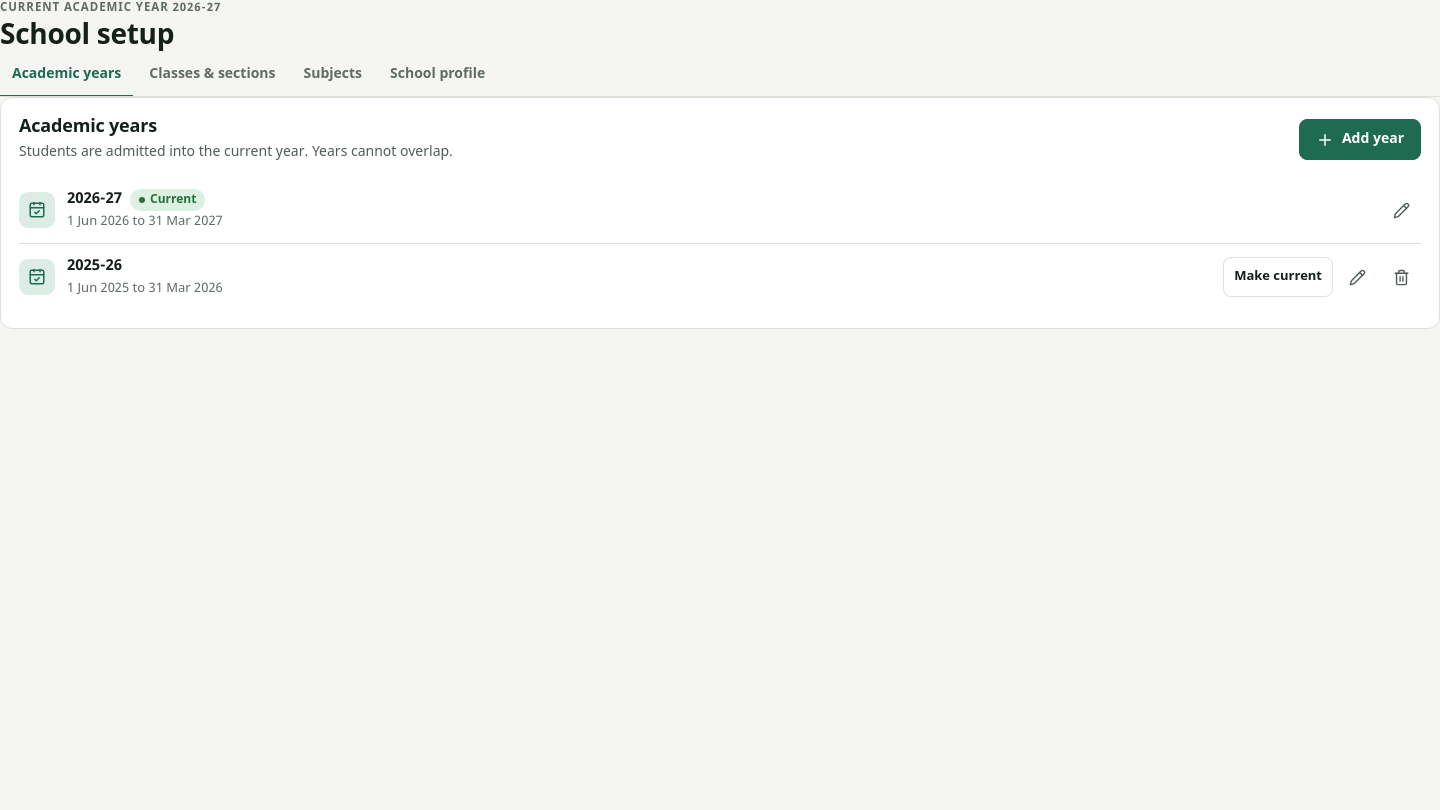
Test: SetupView › validates a new year and names it from the start date
expect the list with test id "years-list" is shown: met, box [19,177,1421,310]
Step 1. Click the button "Add year" → [1360, 140], box [1299,119,1421,160]
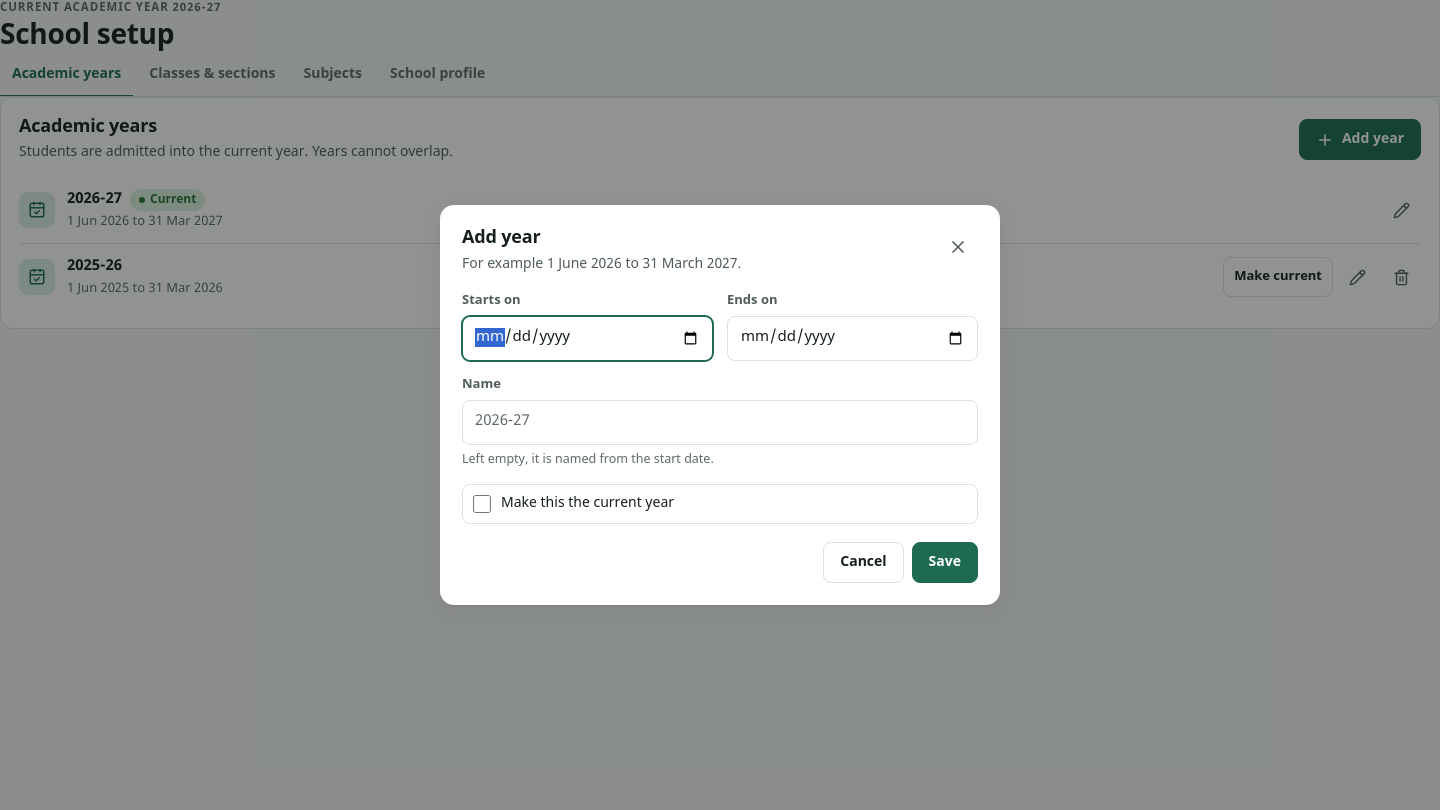
Step 2. Click the button "Save" → [945, 562], box [912,542,978,583]
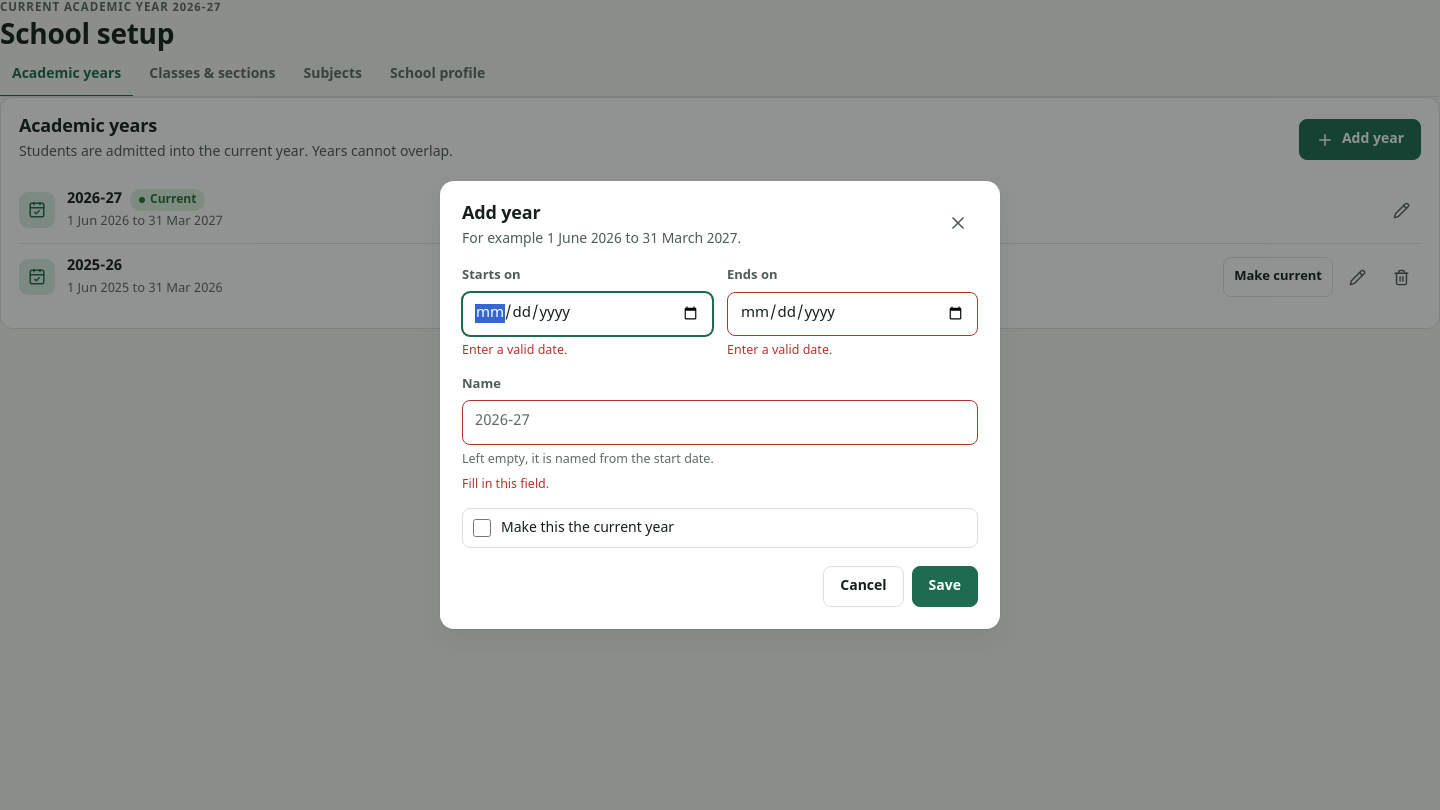
expect the text "Enter a valid date." is shown 2 times: met, box [462,343,567,359]; [727,343,832,359]
Step 3. Type "2027-06-01" into the date field labelled "Starts on" → [588, 314], box [462,292,713,336]
Step 4. Type "2027-05-01" into the date field labelled "Ends on" → [852, 314], box [727,292,978,336]
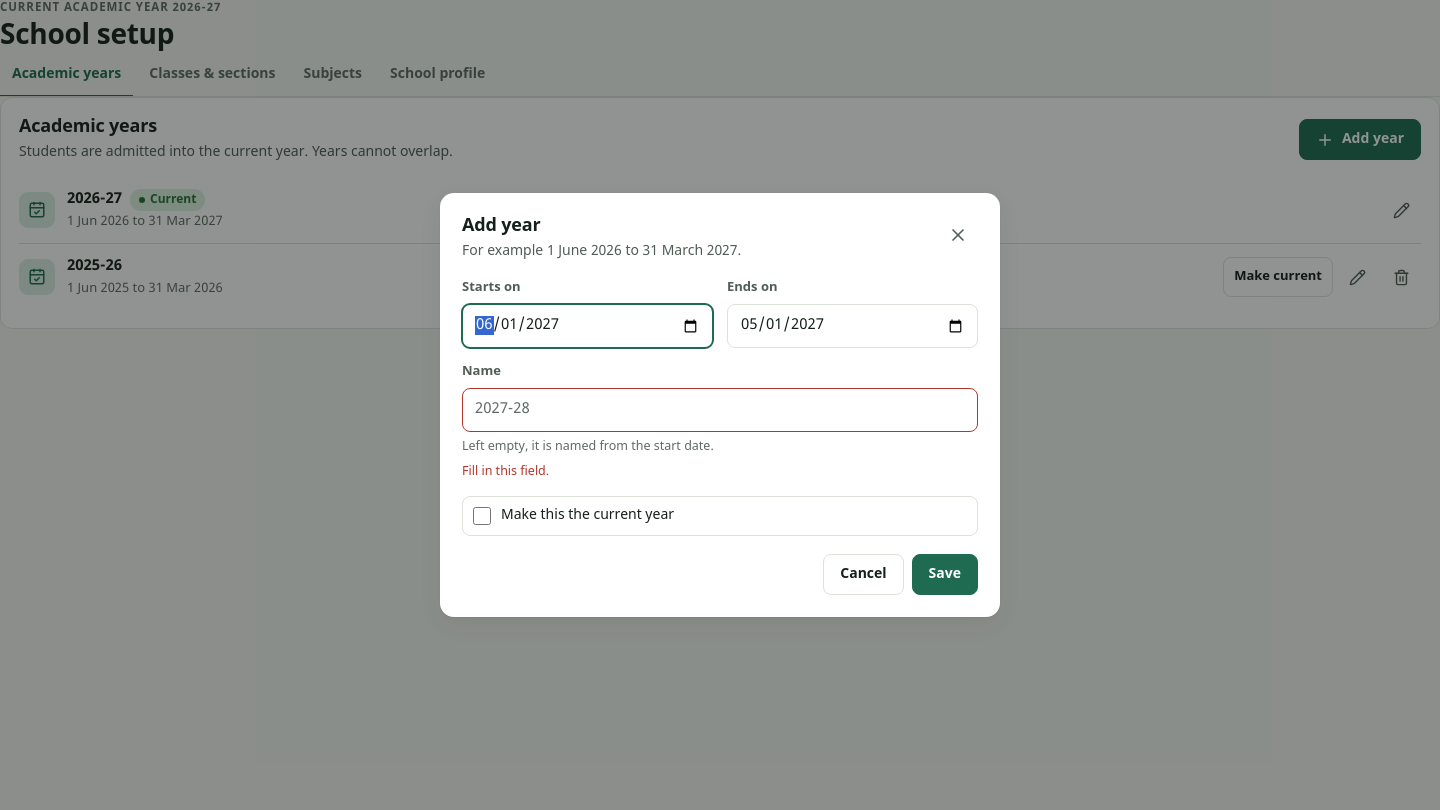
Step 5. Click the button "Save" → [945, 574], box [912,554,978,595]
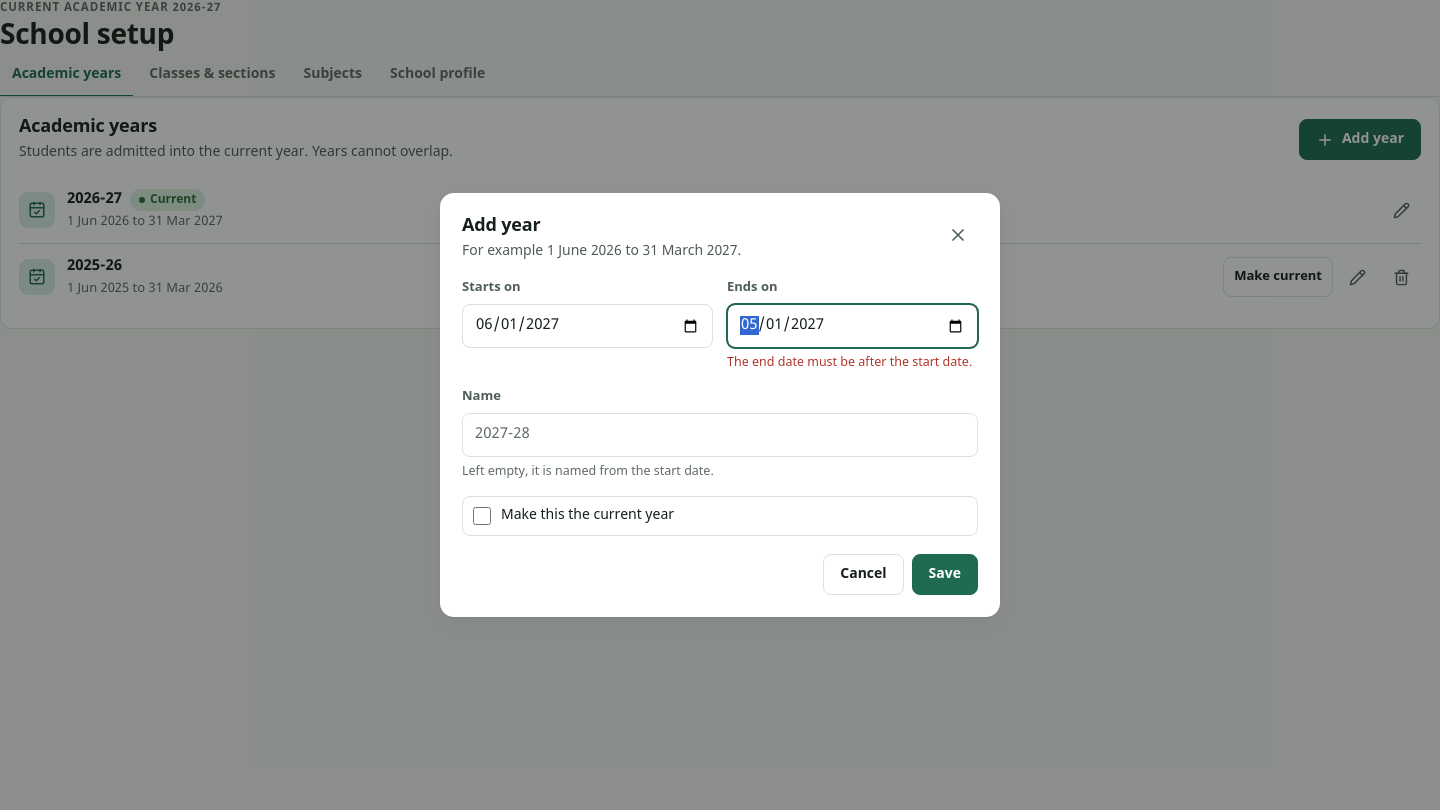
expect the text "The end date must be after the start date." is shown: met, box [727,354,978,373]
Step 6. Type "2028-03-31" into the date field labelled "Ends on" → [852, 326], box [727,304,978,348]
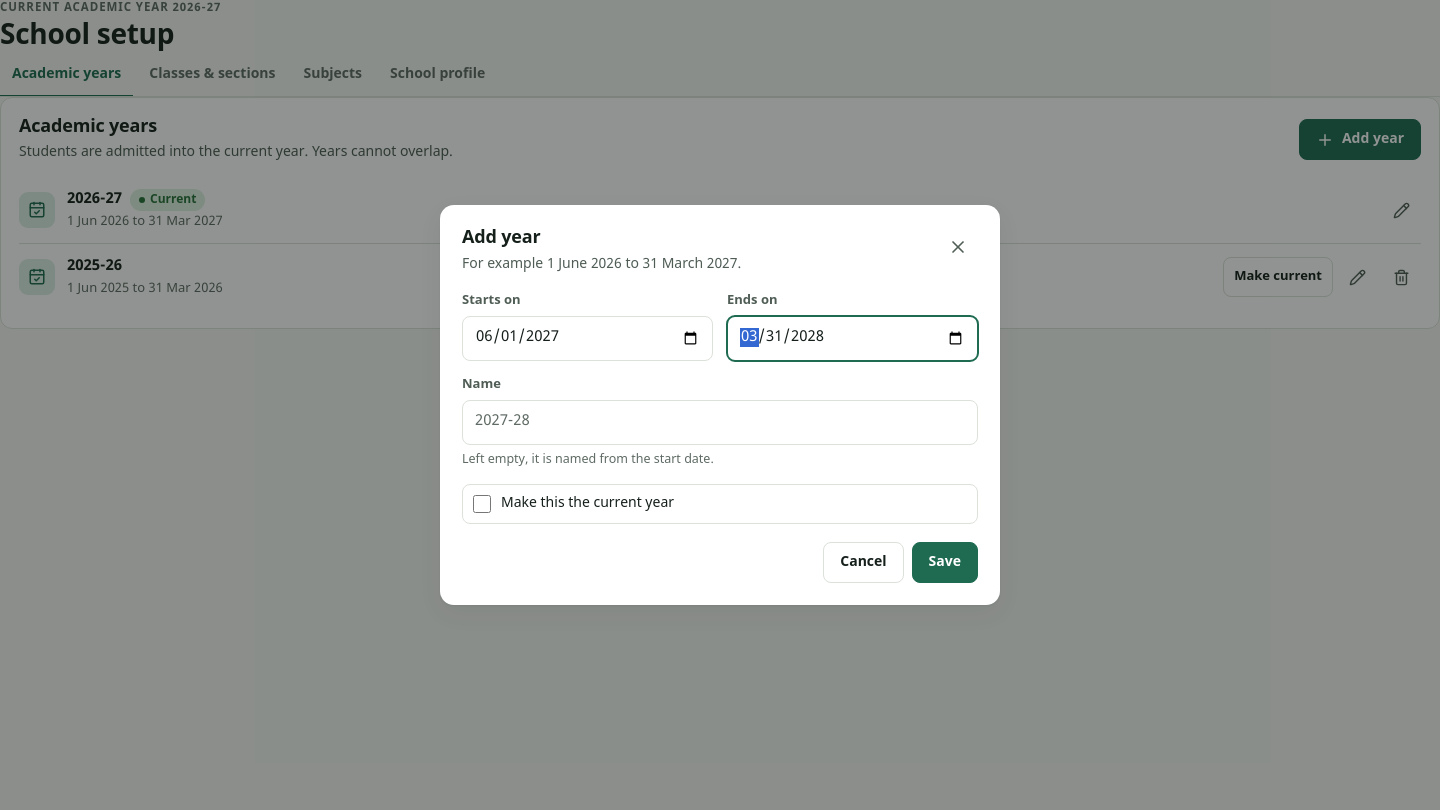
expect the field labelled "Name" has attribute placeholder="2027-28": met, box [462,400,978,445]
Step 7. Click the button "Save" → [945, 562], box [912,542,978,583]
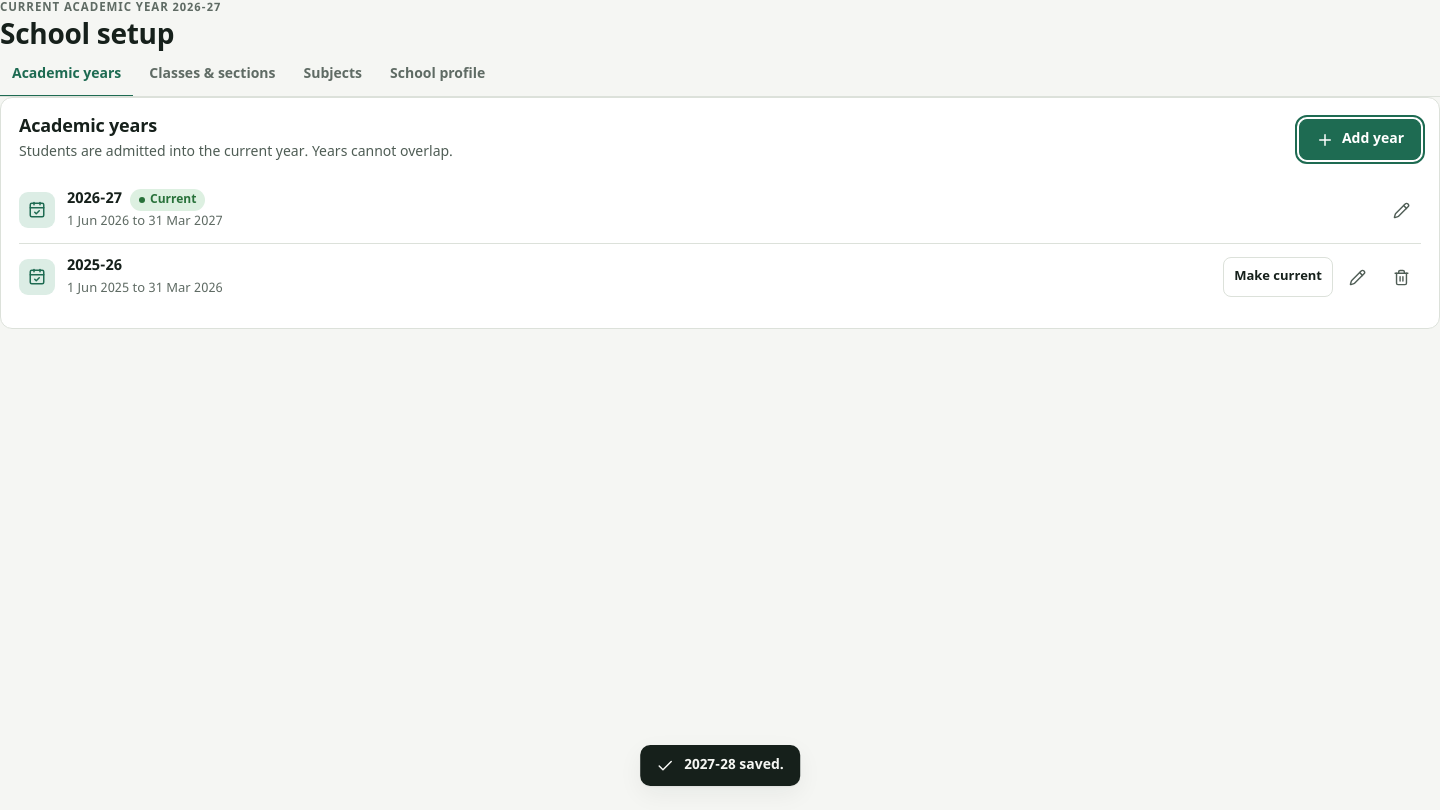
expect the text "2027-28 saved." is shown: met, box [640,745,800,786]
